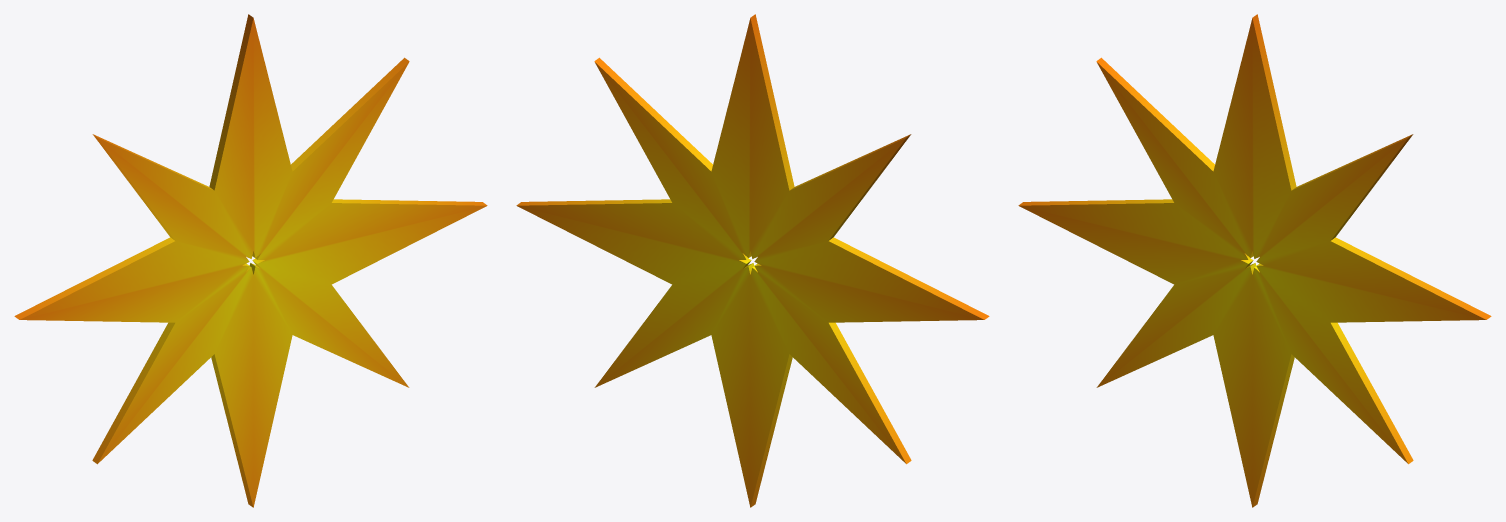
The model's file is hit.fbx.
3 renders of one model, left to right at view 1: azimuth 30°, elevation 25°; view 2: azimuth 150°, elevation 25°; view 3: azimuth 330°, elevation 25°, orthographic.
Visible parts, largest first — view 1: ATK_hit_effect; view 2: ATK_hit_effect; view 3: ATK_hit_effect.
Boxes of the visible parts, x1,y1,x2,y2 form: ATK_hit_effect: (14,14,487,507); ATK_hit_effect: (516,14,989,507); ATK_hit_effect: (1018,14,1491,507).
Size of the model in its own units: 3.68 by 3.68 by 0.07.
